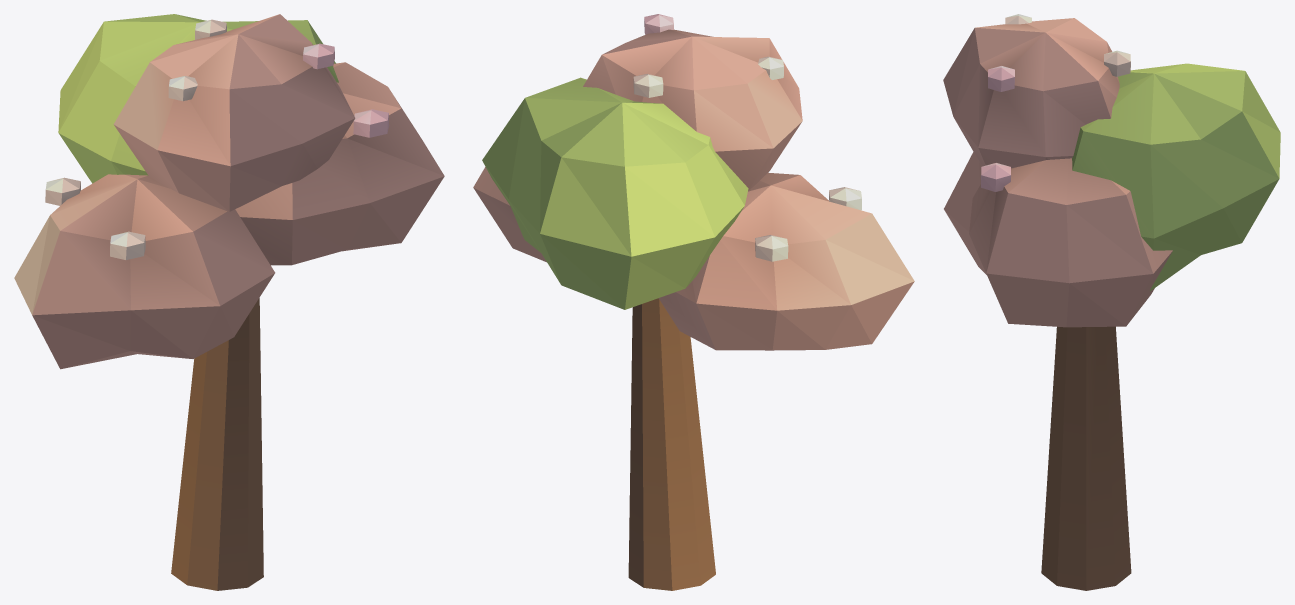
The model's file is forage_6_spring.glb.
3 views of the same model, side by side, from view 1: azimuth 30°, elevation 25°; view 2: azimuth 150°, elevation 25°; view 3: azimuth 270°, elevation 25° (orthographic). The views are drawn at different scales.
Parts seen in each view (by area): view 1: Rohstoff 6 · spring; view 2: Rohstoff 6 · spring; view 3: Rohstoff 6 · spring.
Part boxes in pixels (box(x1,y1,x2,y2)): Rohstoff 6 · spring: box(14, 14, 444, 590); Rohstoff 6 · spring: box(473, 14, 914, 590); Rohstoff 6 · spring: box(943, 14, 1280, 590).
Bounding box in the file's own units: 2.76 × 3.51 × 1.99.
